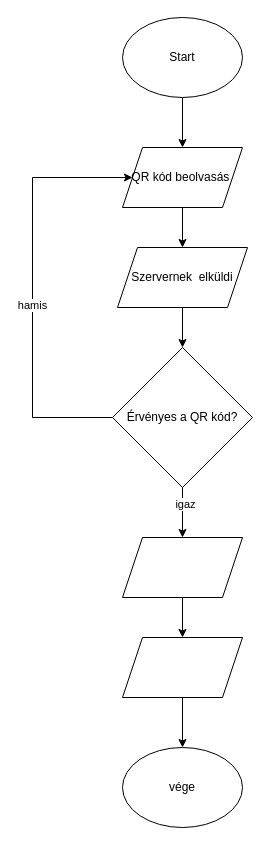
This 270x845 diagram has some shape labels left out. The centre of each missing label's shape, as x and y in pixels:
"Elfogadva" belongs at (182,567).
"kapu kinyilík" belongs at (182,667).
